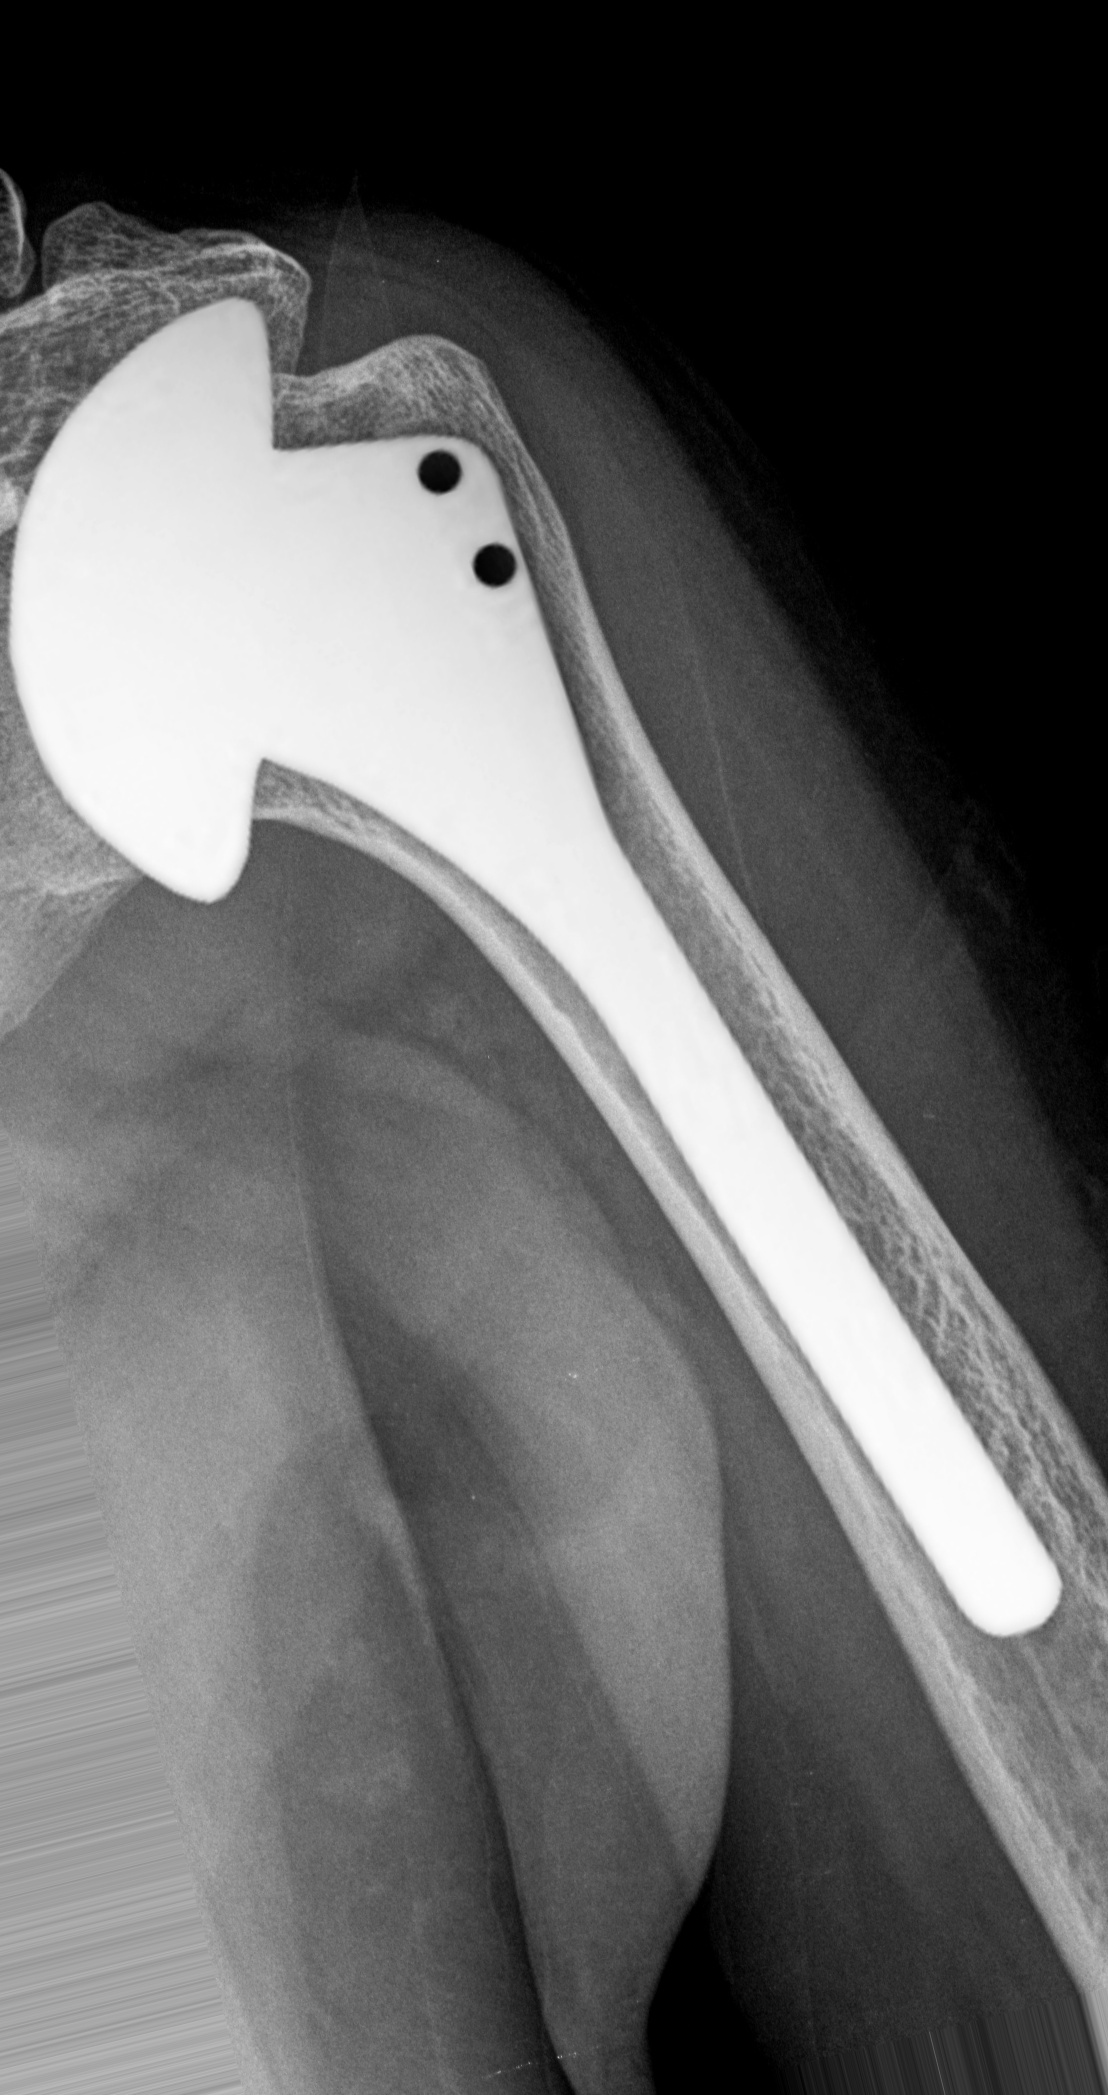Shoulder - Aequalishead - Tornier: (12, 270, 343, 917)
Shoulder - Aequalistail - Tornier: (140, 283, 645, 910)
